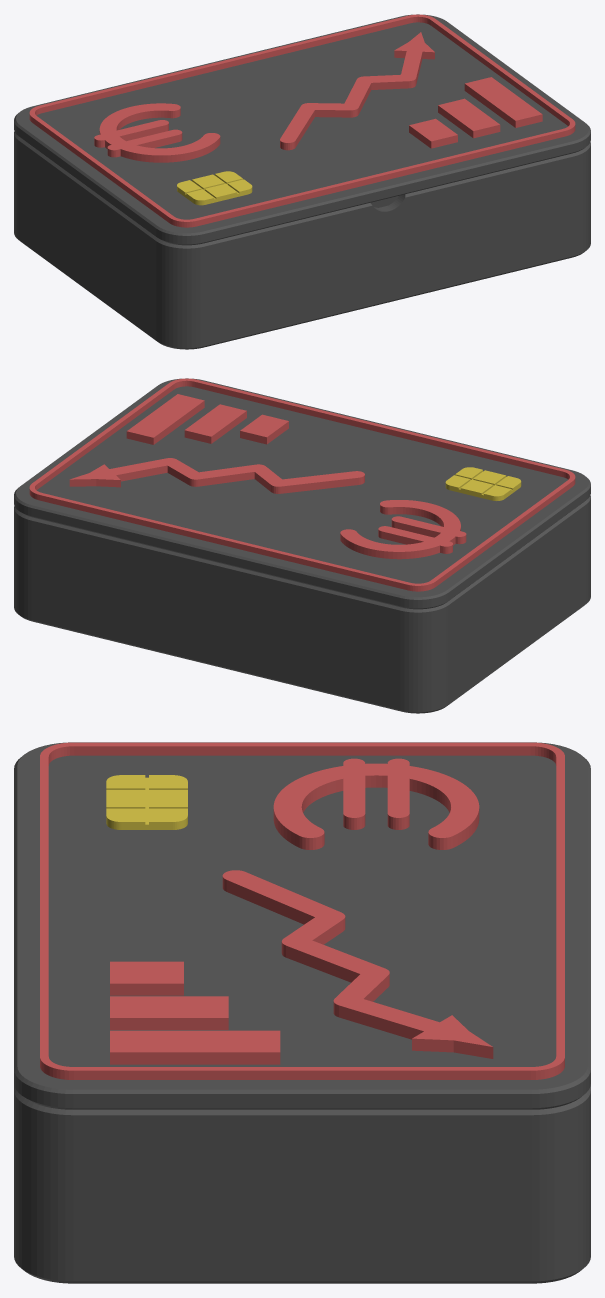
File: economia-montato.glb
3 views of the same model, one above another, from view 1: azimuth 30°, elevation 25°; view 2: azimuth 150°, elevation 25°; view 3: azimuth 270°, elevation 25° (orthographic). The views are drawn at different scales.
Visible parts, largest first — view 1: 01_vaschetta, 02_coperchio_carta, 03_cornice, 04_euro, 05_freccia, 06_colonna_3, 07_chip, 06_colonna_2, 06_colonna_1; view 2: 01_vaschetta, 02_coperchio_carta, 03_cornice, 05_freccia, 04_euro, 06_colonna_3, 07_chip, 06_colonna_2, 06_colonna_1; view 3: 02_coperchio_carta, 01_vaschetta, 03_cornice, 05_freccia, 04_euro, 06_colonna_3, 07_chip, 06_colonna_2, 06_colonna_1.
Part boxes in pixels (x1=…): 01_vaschetta: x1=14, y1=131, x2=590, y2=349; 02_coperchio_carta: x1=14, y1=14, x2=590, y2=245; 03_cornice: x1=29, y1=14, x2=575, y2=227; 04_euro: x1=94, y1=103, x2=220, y2=162; 05_freccia: x1=280, y1=32, x2=434, y2=150; 06_colonna_3: x1=464, y1=77, x2=542, y2=127; 07_chip: x1=177, y1=171, x2=252, y2=205; 06_colonna_2: x1=438, y1=98, x2=500, y2=138; 06_colonna_1: x1=409, y1=118, x2=457, y2=148; 01_vaschetta: x1=14, y1=495, x2=590, y2=713; 02_coperchio_carta: x1=14, y1=378, x2=590, y2=609; 03_cornice: x1=29, y1=378, x2=575, y2=591; 05_freccia: x1=69, y1=458, x2=364, y2=493; 04_euro: x1=340, y1=500, x2=466, y2=559; 06_colonna_3: x1=126, y1=394, x2=204, y2=444; 07_chip: x1=445, y1=467, x2=521, y2=500; 06_colonna_2: x1=184, y1=404, x2=246, y2=443; 06_colonna_1: x1=240, y1=414, x2=288, y2=444; 02_coperchio_carta: x1=14, y1=742, x2=590, y2=1109; 01_vaschetta: x1=14, y1=1084, x2=590, y2=1283; 03_cornice: x1=40, y1=742, x2=564, y2=1079; 05_freccia: x1=222, y1=870, x2=493, y2=1058; 04_euro: x1=273, y1=758, x2=479, y2=849; 06_colonna_3: x1=110, y1=1030, x2=280, y2=1064; 07_chip: x1=106, y1=775, x2=187, y2=829; 06_colonna_2: x1=110, y1=996, x2=228, y2=1029; 06_colonna_1: x1=110, y1=961, x2=183, y2=995.
Size of the model in its own units: 0.112 by 0.0308 by 0.078.
